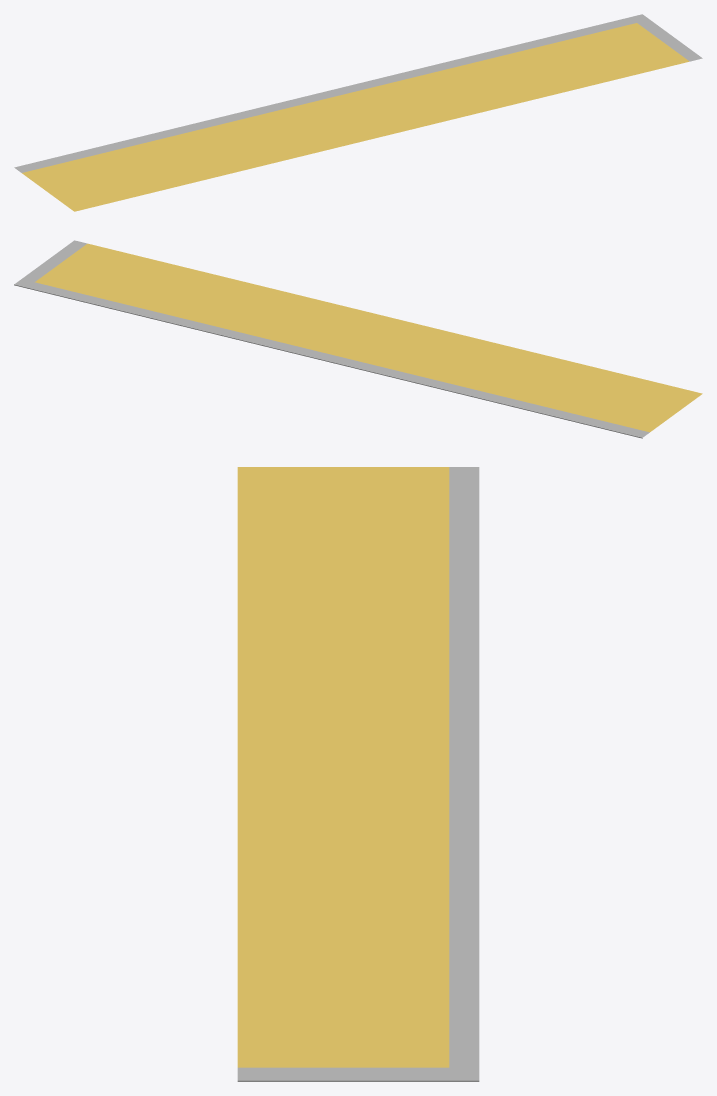
File: paseo.glb
3 views of the same model, one above another, from view 1: azimuth 30°, elevation 25°; view 2: azimuth 150°, elevation 25°; view 3: azimuth 270°, elevation 25° (orthographic). The views are drawn at different scales.
Parts seen in each view (by area): view 1: Plane; view 2: Plane; view 3: Plane.
Boxes of the visible parts, x1,y1,x2,y2 form: Plane: (14,14,702,211); Plane: (14,240,702,438); Plane: (237,467,479,1081).
Size of the model in its own units: 96 by 0.1 by 16.
